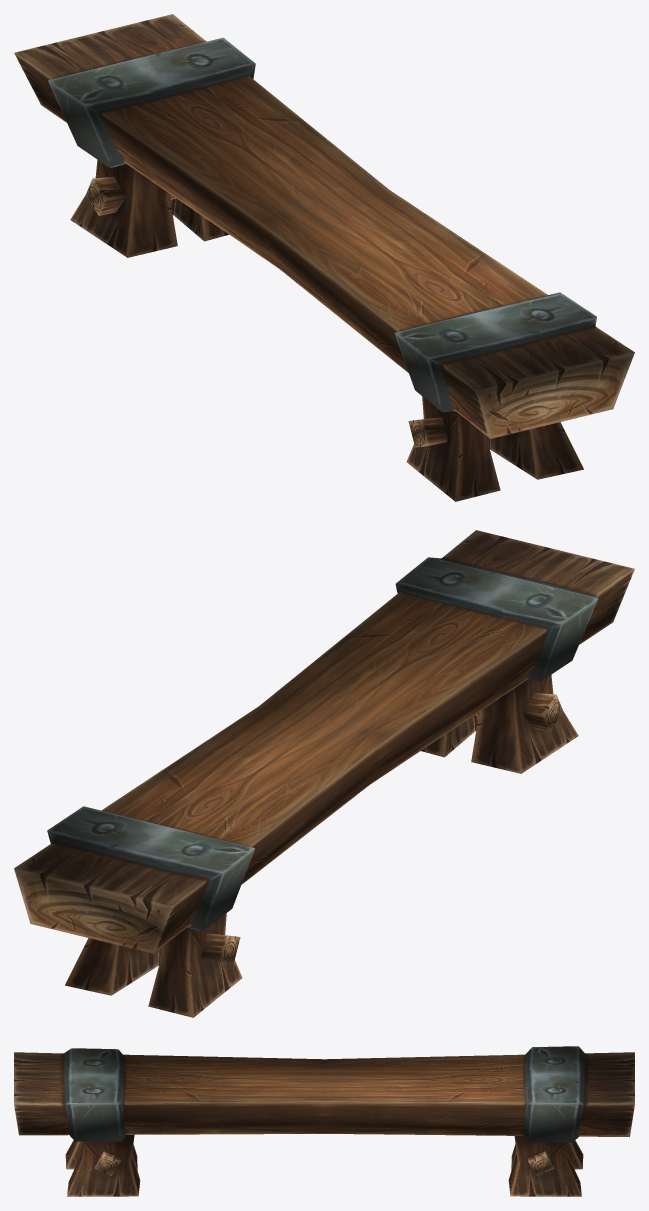
Rendered from 6hu_barracks_woodbenchlarge.obj.
3 renders of one model, top to bottom at view 1: azimuth 30°, elevation 25°; view 2: azimuth 150°, elevation 25°; view 3: azimuth 270°, elevation 25°, orthographic. The views are drawn at different scales.
Visible parts, largest first — view 1: 6HU_BARRACKS_WOODBENCHLARGE0; view 2: 6HU_BARRACKS_WOODBENCHLARGE0; view 3: 6HU_BARRACKS_WOODBENCHLARGE0.
Boxes of the visible parts, x1,y1,x2,y2 form: 6HU_BARRACKS_WOODBENCHLARGE0: [14, 14, 634, 501]; 6HU_BARRACKS_WOODBENCHLARGE0: [14, 530, 634, 1017]; 6HU_BARRACKS_WOODBENCHLARGE0: [14, 1046, 634, 1196].
Size of the model in its own units: 0.8766 by 0.7077 by 3.99.
1 material, 1 textured.
